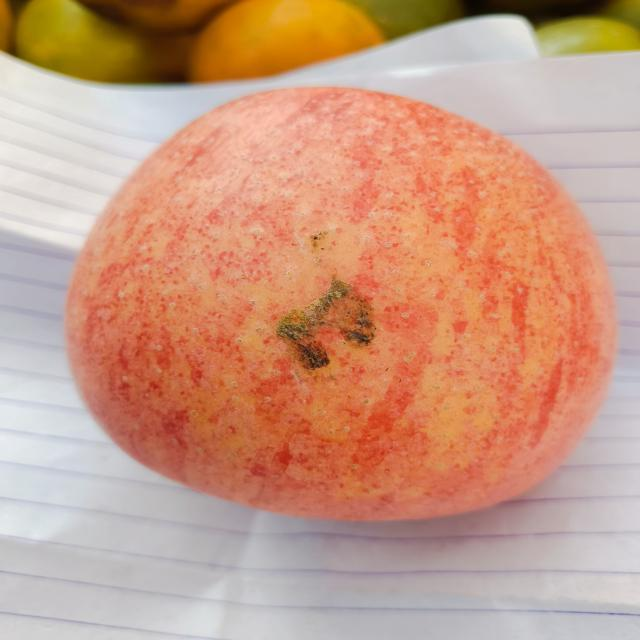Fresh Apple: (73, 82, 612, 510)
